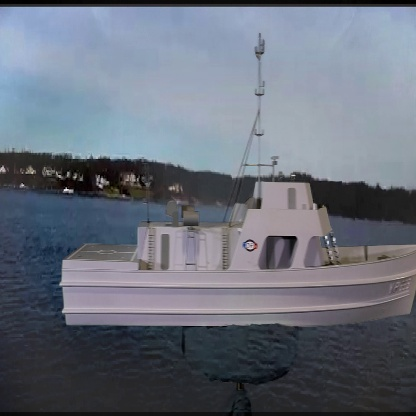YP689: (59, 31, 416, 331)
